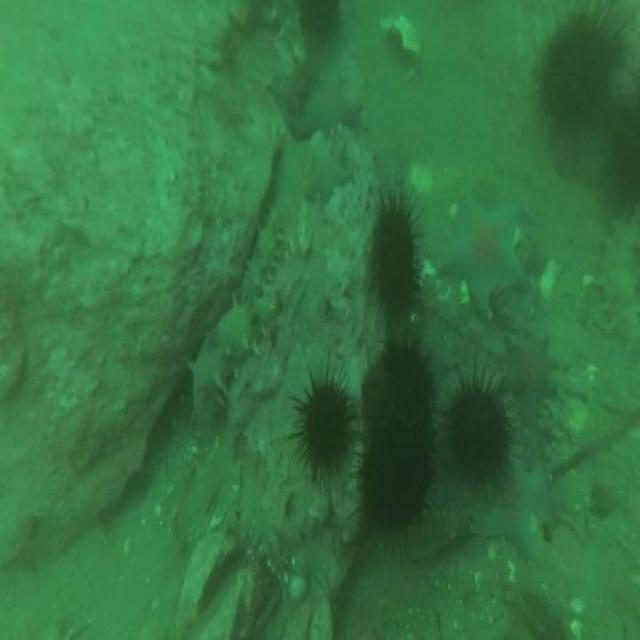echinus: (540, 16, 615, 126), (359, 436, 431, 534), (450, 386, 508, 485), (374, 340, 432, 433), (371, 205, 417, 310), (304, 378, 351, 469), (606, 90, 640, 204), (298, 2, 341, 49)
holothurian: (185, 294, 278, 420), (239, 204, 282, 294)
starfish: (442, 190, 524, 316), (475, 455, 543, 553), (504, 335, 558, 422), (295, 74, 363, 138), (308, 142, 352, 204)
